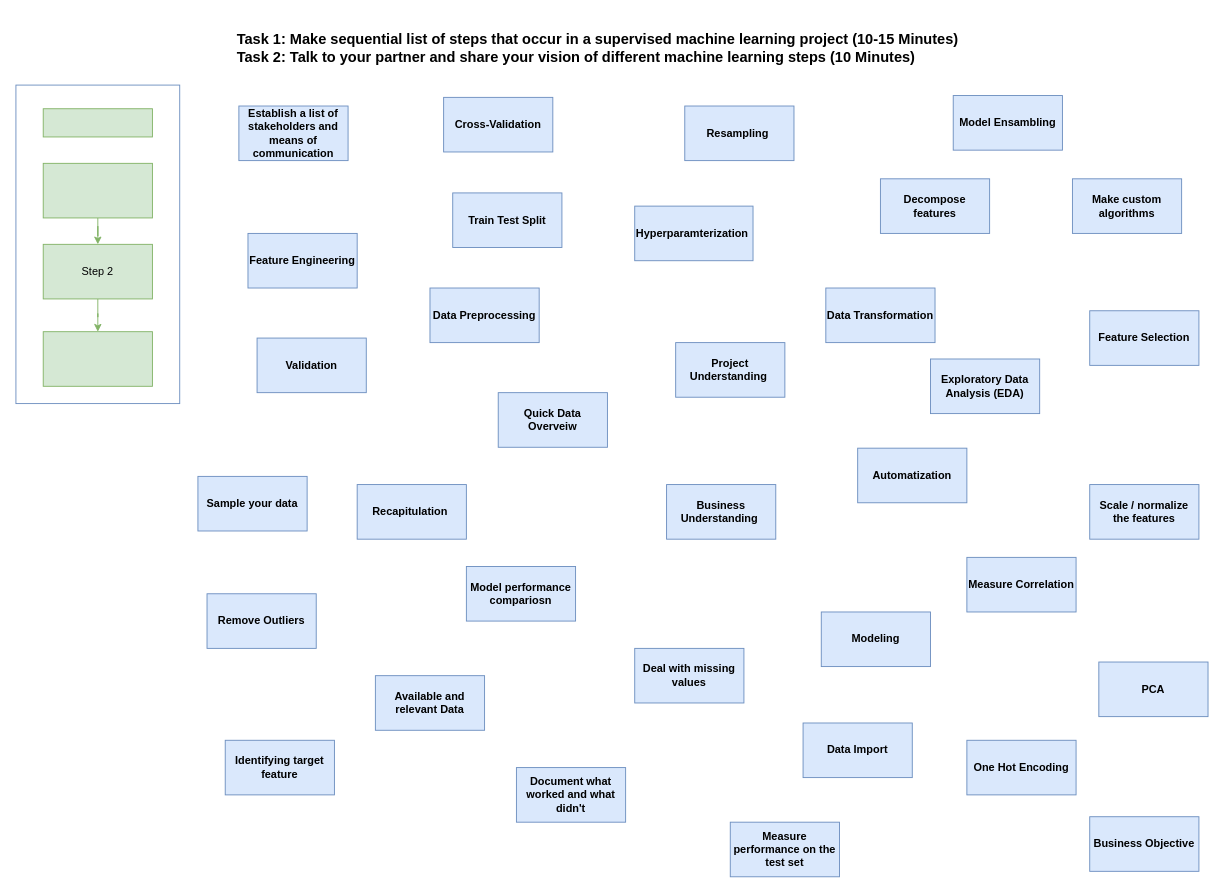
Image size: 1224x893. Some labels were removed from this diagram. Here are the shapes that lost their labels. From the top down, the centre of each, then its label:
At (x=97, y=122): "For Example:".
At (x=97, y=190): "Step 1".
At (x=97, y=358): "Step 3 .....".
